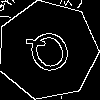Q: (22, 25, 79, 85)
